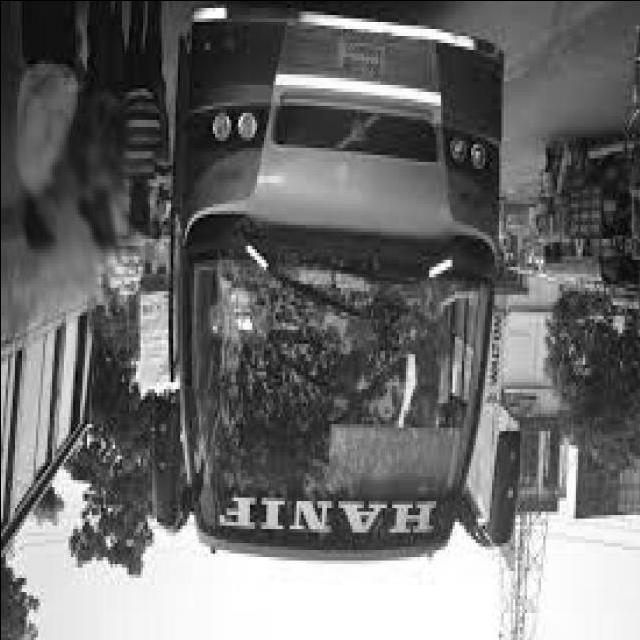bus: (148, 3, 521, 564)
